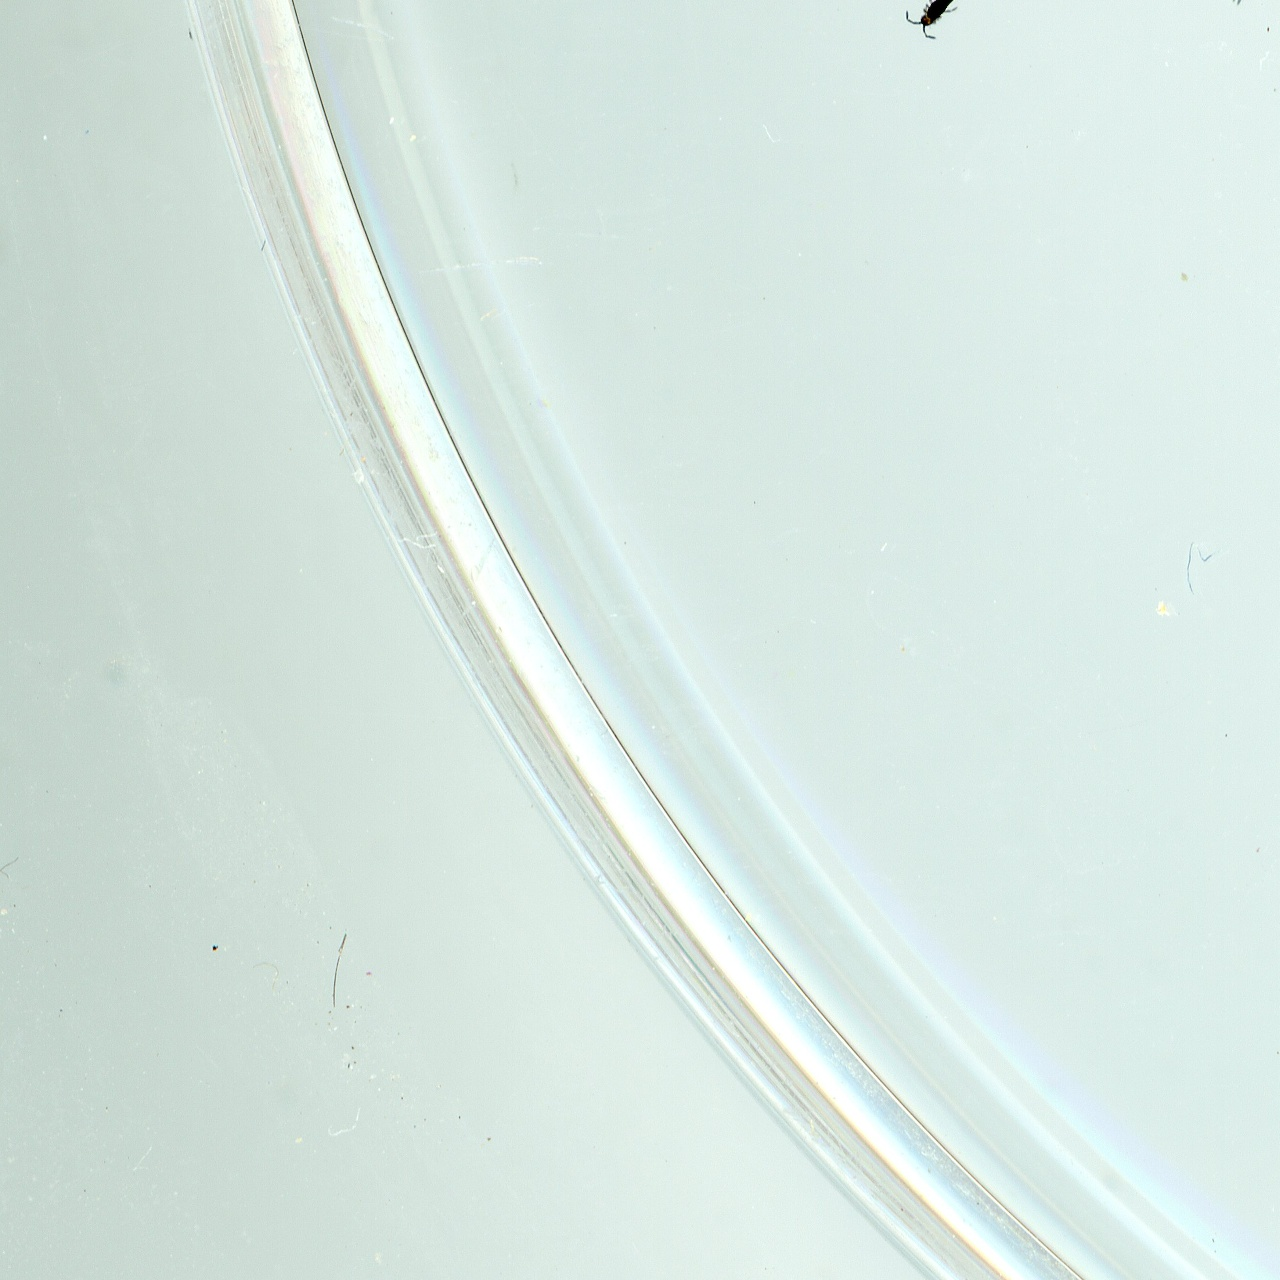arthropod: (893, 0, 979, 53)
